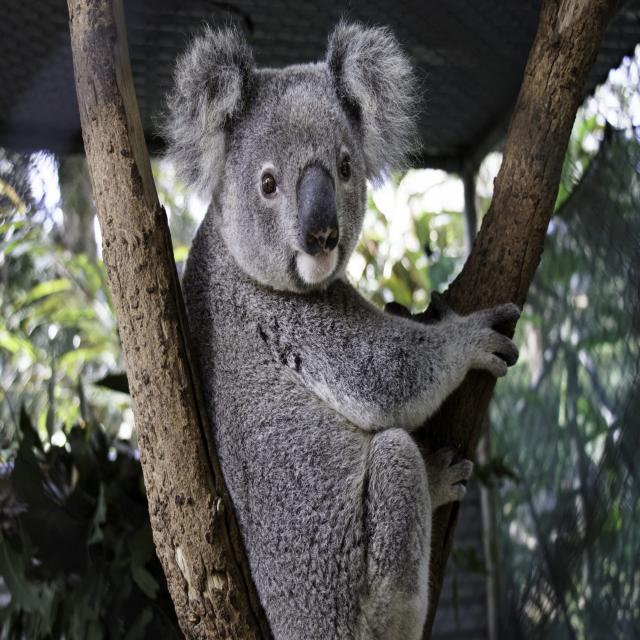Koala: (173, 18, 499, 619)
